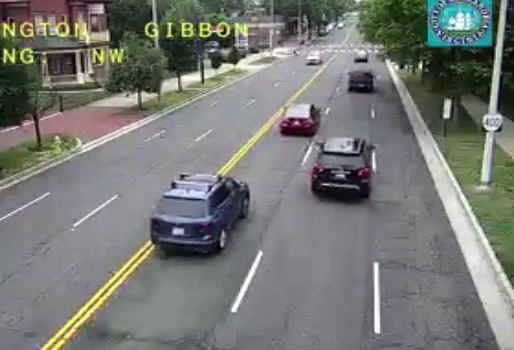car: (148, 173, 250, 251), (310, 138, 371, 196), (280, 103, 317, 134), (348, 71, 373, 93)
